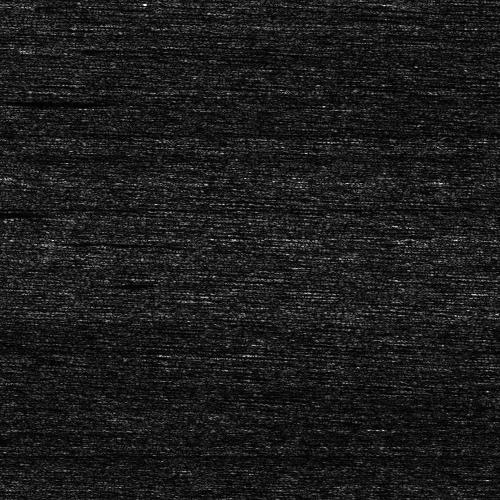rock: (0, 236, 98, 245), (0, 98, 11, 105)
shadow: (46, 236, 178, 245), (0, 98, 97, 105), (0, 211, 53, 216)
